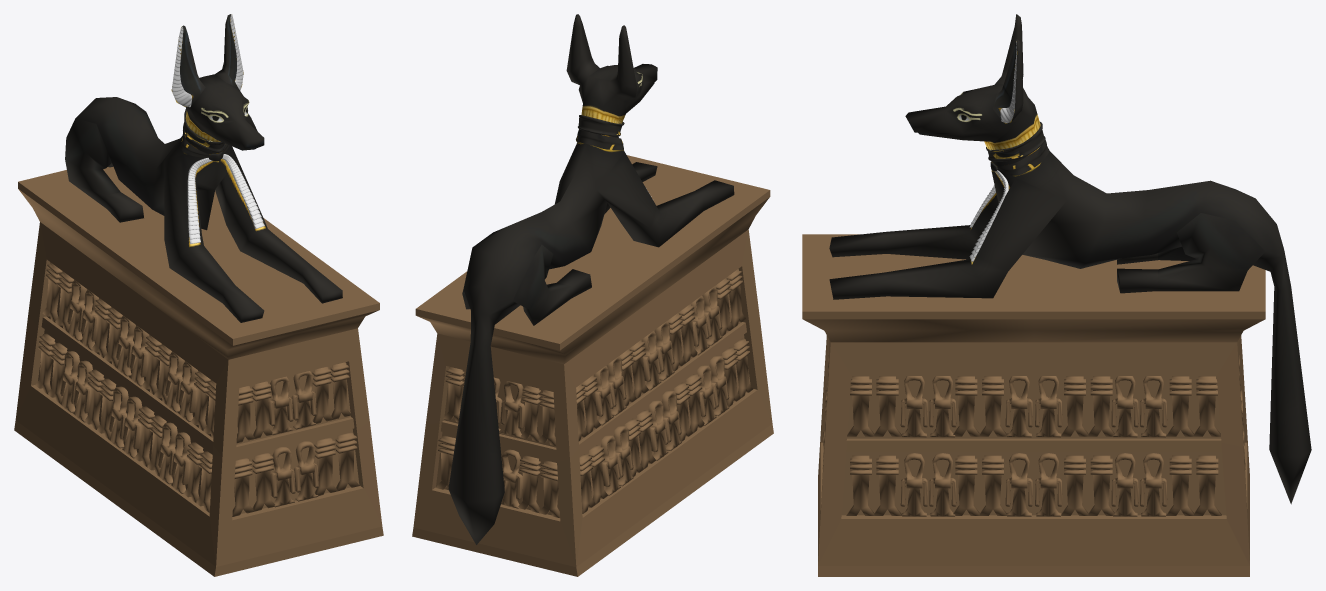
File: YinepuDog.fbx
The picture shows the model from 3 angles, left to right: view 1: azimuth 30°, elevation 25°; view 2: azimuth 150°, elevation 25°; view 3: azimuth 270°, elevation 25°; orthographic projection. The views are drawn at different scales.
Visible parts, largest first — view 1: Pedestal, Yinepu_Low, Tie_High, Ears_High, Collar_High; view 2: Pedestal, Yinepu_Low, Collar_High; view 3: Pedestal, Yinepu_Low, Collar_High, Tie_High.
Boxes of the visible parts, bbox=[...] form: Pedestal: bbox=[14, 166, 383, 576]; Yinepu_Low: bbox=[65, 14, 342, 322]; Tie_High: bbox=[187, 154, 264, 243]; Ears_High: bbox=[172, 14, 243, 107]; Collar_High: bbox=[181, 109, 229, 161]; Pedestal: bbox=[412, 155, 773, 576]; Yinepu_Low: bbox=[448, 14, 734, 544]; Collar_High: bbox=[576, 115, 624, 150]; Pedestal: bbox=[802, 234, 1265, 576]; Yinepu_Low: bbox=[829, 14, 1311, 504]; Collar_High: bbox=[986, 122, 1049, 175]; Tie_High: bbox=[969, 170, 1008, 261].
Size of the model in its own units: 43.98 by 106 by 117.
